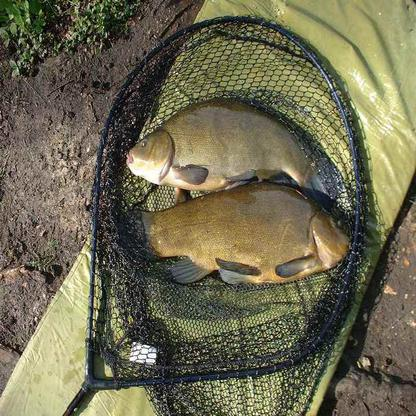fish: (131, 193, 352, 286), (126, 97, 345, 189)
